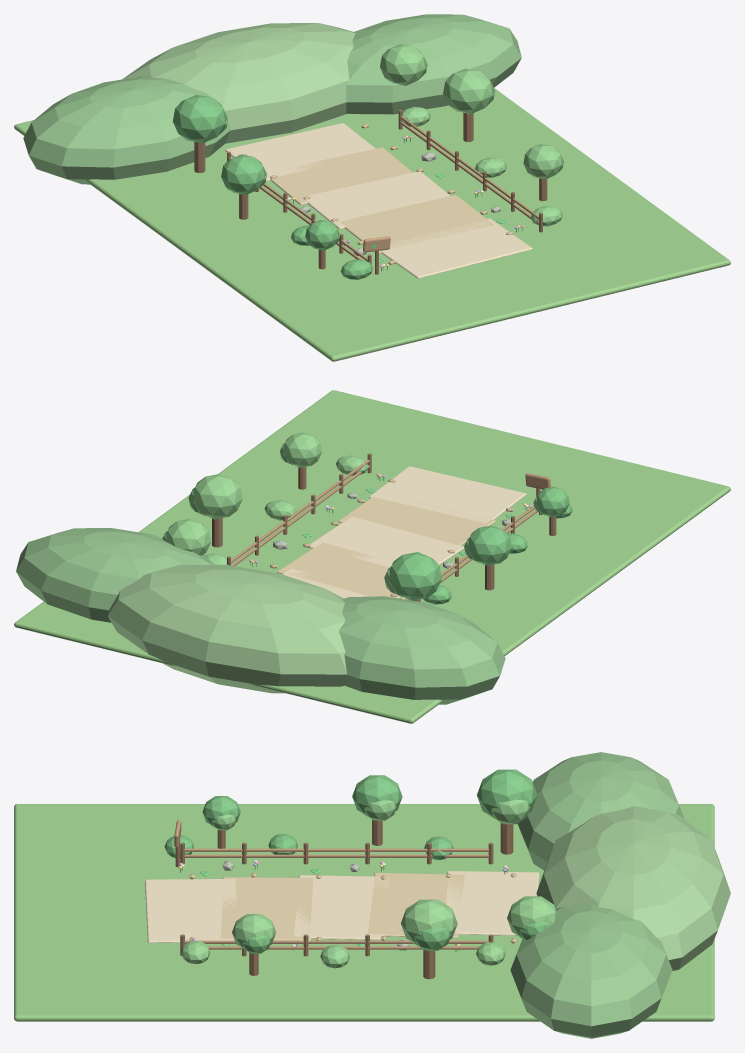
File: clover-road-battlefield.glb
The picture shows the model from 3 angles, top to bottom: view 1: azimuth 30°, elevation 25°; view 2: azimuth 150°, elevation 25°; view 3: azimuth 270°, elevation 25°; orthographic projection. The views are drawn at different scales.
Visible parts, largest first — view 1: Ground, Hill_1, Hill_0, Hill_2, Road_0, Road_1, Road_2, Road_4, Road_3, Tree_4_CrownA, Tree_3_CrownA, Tree_5_CrownA (+3 smaller); view 2: Ground, Hill_1, Hill_0, Hill_2, Road_0, Road_2, Road_3, Road_1, Tree_4_CrownA, Tree_3_CrownA, Tree_2_CrownA, Tree_5_CrownA (+3 smaller); view 3: Ground, Hill_1, Hill_2, Hill_0, Road_0, Road_4, Road_2, Road_1, Road_3, Tree_4_CrownA, Tree_3_CrownA, Tree_5_CrownA (+9 smaller).
Part boxes in pixels (<box>): Ground: <box>14,88,730,361</box>; Hill_1: <box>122,23,355,143</box>; Hill_0: <box>23,76,230,184</box>; Hill_2: <box>346,14,521,114</box>; Road_0: <box>381,218,532,278</box>; Road_1: <box>340,195,493,253</box>; Road_2: <box>302,171,450,229</box>; Road_4: <box>225,123,375,180</box>; Road_3: <box>270,147,412,204</box>; Tree_4_CrownA: <box>172,94,226,143</box>; Tree_3_CrownA: <box>443,68,493,113</box>; Tree_5_CrownA: <box>380,44,426,85</box>; Ground: <box>14,390,730,723</box>; Hill_1: <box>108,564,346,693</box>; Hill_0: <box>339,596,505,704</box>; Hill_2: <box>16,528,214,622</box>; Road_0: <box>369,466,526,523</box>; Road_2: <box>309,516,464,567</box>; Road_3: <box>277,542,400,597</box>; Road_1: <box>338,494,495,545</box>; Tree_4_CrownA: <box>389,552,441,600</box>; Tree_3_CrownA: <box>193,474,242,519</box>; Tree_2_CrownA: <box>468,525,511,565</box>; Tree_5_CrownA: <box>166,518,211,555</box>; Ground: <box>14,804,714,1021</box>; Hill_1: <box>536,806,730,970</box>; Hill_2: <box>510,903,672,1038</box>; Hill_0: <box>517,752,684,870</box>; Road_0: <box>145,879,236,942</box>; Road_4: <box>446,871,539,935</box>; Road_2: <box>294,875,388,939</box>; Road_1: <box>220,877,313,940</box>; Road_3: <box>368,872,464,937</box>; Tree_4_CrownA: <box>477,769,537,816</box>; Tree_3_CrownA: <box>401,899,457,943</box>; Tree_5_CrownA: <box>507,896,558,936</box>.
Size of the model in its own units: 18.9 by 3.88 by 22.1.
